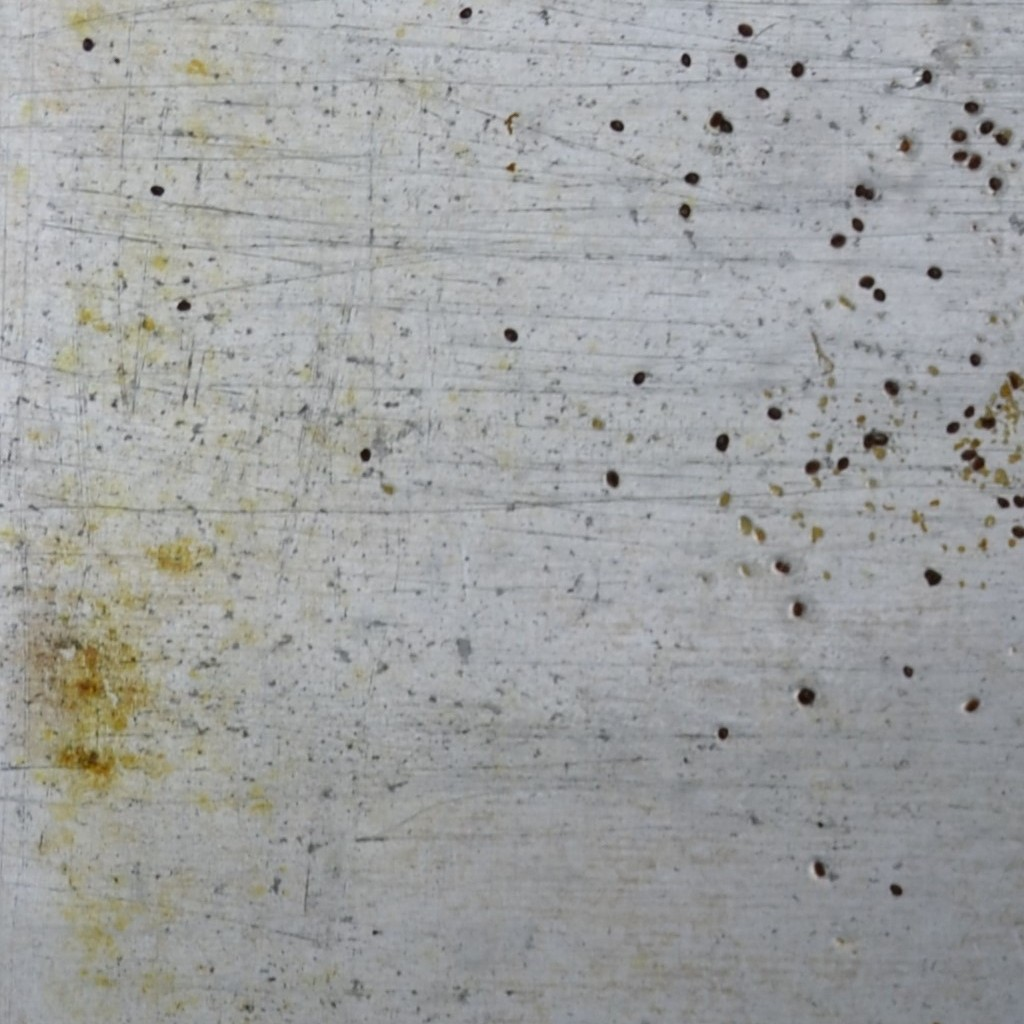varroa: (794, 686, 817, 705), (810, 856, 827, 881), (714, 430, 731, 455), (923, 566, 943, 587), (604, 467, 622, 490), (803, 457, 822, 477), (966, 152, 983, 173), (925, 261, 943, 280), (962, 694, 981, 712), (828, 230, 846, 249), (733, 51, 750, 71), (682, 169, 702, 186), (789, 58, 805, 79), (883, 379, 901, 397), (858, 274, 875, 293), (501, 325, 518, 344), (790, 599, 806, 619), (719, 115, 735, 135), (888, 879, 905, 897), (993, 129, 1009, 148), (978, 117, 994, 136), (979, 415, 998, 431), (753, 84, 772, 100), (987, 175, 1002, 195), (967, 350, 982, 370), (631, 368, 646, 388), (962, 98, 979, 115), (737, 22, 754, 39), (609, 117, 626, 134), (175, 297, 192, 314), (835, 455, 851, 473), (148, 182, 166, 198), (949, 128, 968, 143), (919, 66, 934, 85), (959, 447, 978, 462), (767, 404, 782, 423), (707, 108, 721, 128), (944, 420, 961, 436), (677, 201, 693, 218), (716, 724, 730, 743), (456, 6, 475, 20), (952, 147, 968, 163), (872, 430, 889, 445), (1009, 522, 1023, 540), (679, 51, 693, 69), (994, 494, 1010, 509), (871, 287, 885, 304), (863, 185, 877, 202), (850, 215, 864, 232), (359, 446, 372, 463), (81, 36, 94, 53), (862, 430, 874, 448), (1012, 491, 1023, 510), (963, 403, 975, 420), (972, 456, 984, 473), (854, 183, 866, 198)
